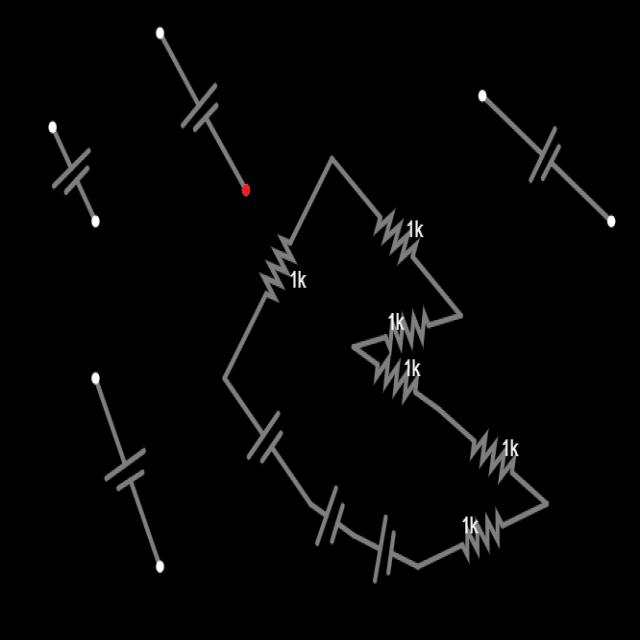Battery: (246, 406, 286, 468), (179, 79, 218, 135), (103, 445, 148, 493), (50, 144, 89, 196), (528, 122, 561, 181), (315, 483, 344, 546), (373, 514, 397, 579)
Resistor: (386, 301, 435, 355), (372, 349, 419, 404), (471, 429, 515, 483), (374, 210, 418, 264), (260, 236, 296, 300), (462, 508, 502, 561)
Wire: (478, 90, 544, 158), (552, 162, 618, 230), (290, 154, 336, 246), (221, 294, 268, 382), (207, 115, 251, 201), (329, 152, 382, 220), (90, 373, 125, 467), (130, 484, 165, 573), (415, 392, 476, 443), (157, 28, 198, 103), (415, 258, 464, 320), (222, 378, 266, 436), (272, 450, 312, 508), (501, 499, 553, 530), (511, 471, 551, 507), (336, 520, 379, 551), (418, 542, 462, 570), (77, 183, 101, 230), (47, 121, 71, 167), (351, 340, 375, 369), (351, 332, 387, 351), (428, 312, 464, 331), (394, 551, 418, 570), (310, 502, 325, 520)
